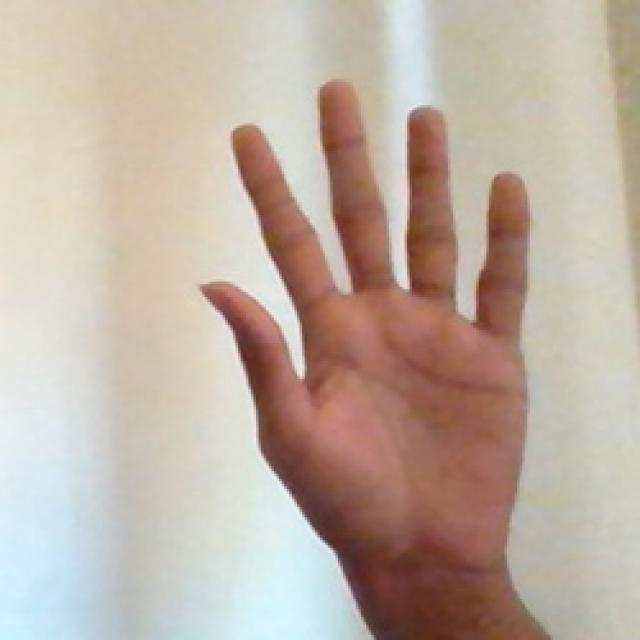Numeric-5: (195, 72, 538, 597)
